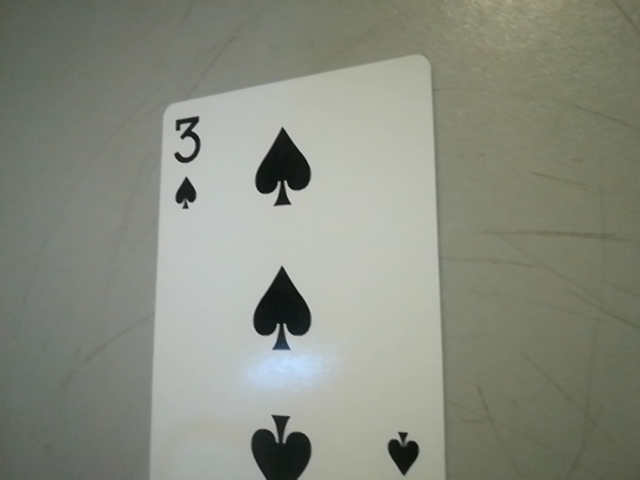ht 3: (158, 109, 215, 212)
